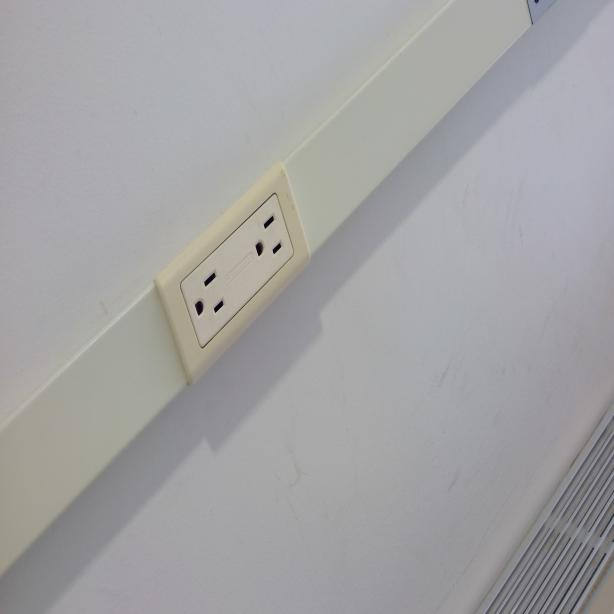typeb: (181, 267, 230, 333), (241, 208, 287, 272)
